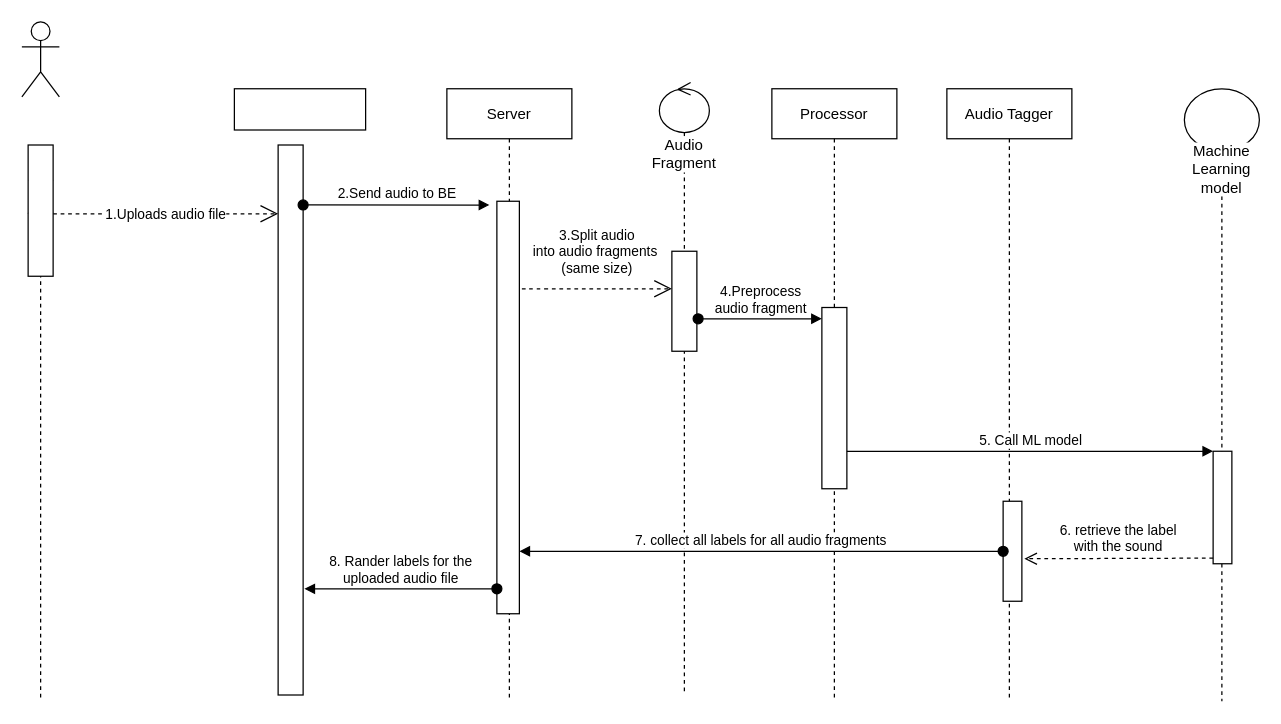
Image size: 1281x724. Some labels were removed from this diagram. The centre of each missing label's shape, as x and y in pixels:
User: (x=40, y=59)
Web Application: (x=299, y=109)
